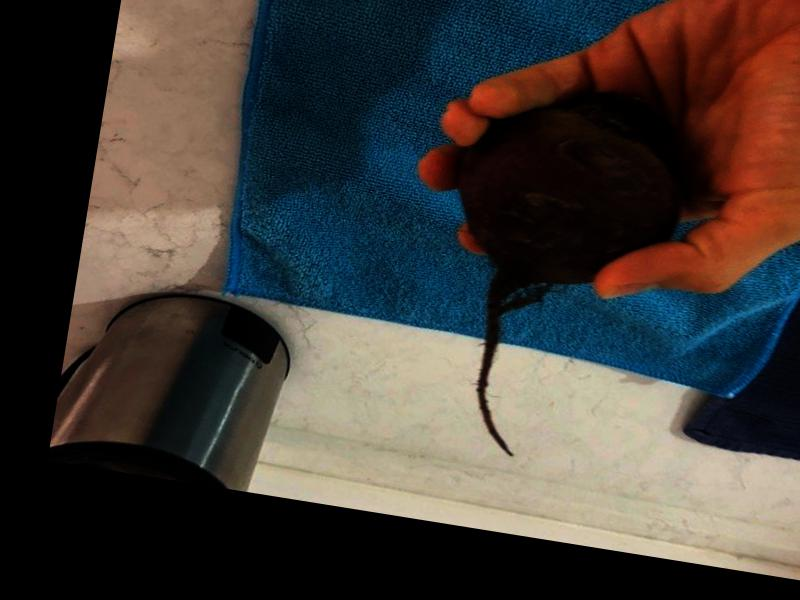Beet: (415, 70, 697, 475)
